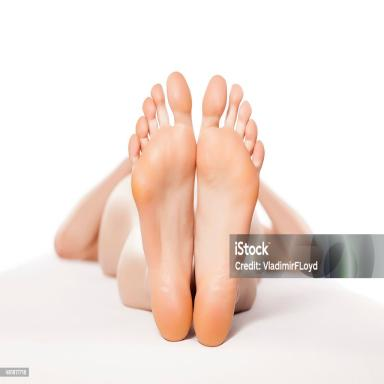normal skin: (129, 73, 264, 346), (55, 159, 151, 309), (250, 182, 312, 234)
